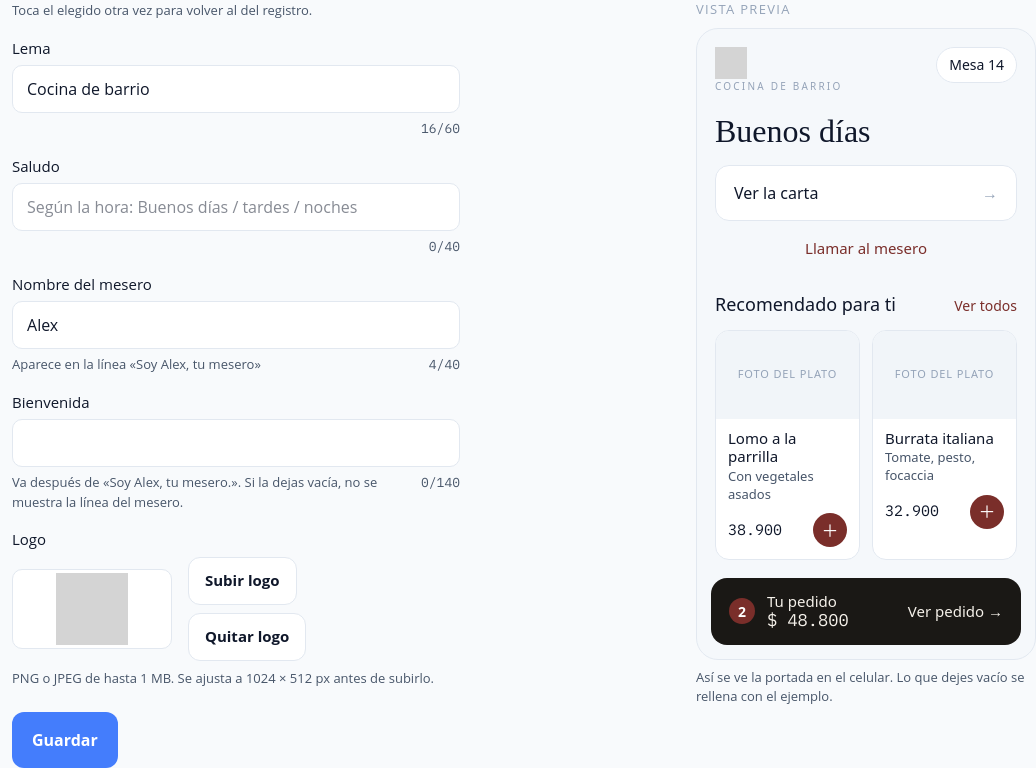
Test case: shows the real save error from el servidor and a plain message for access errors
(page scrolled)
Click the button "Guardar".
click(65, 740)  # box [12, 712, 118, 767]
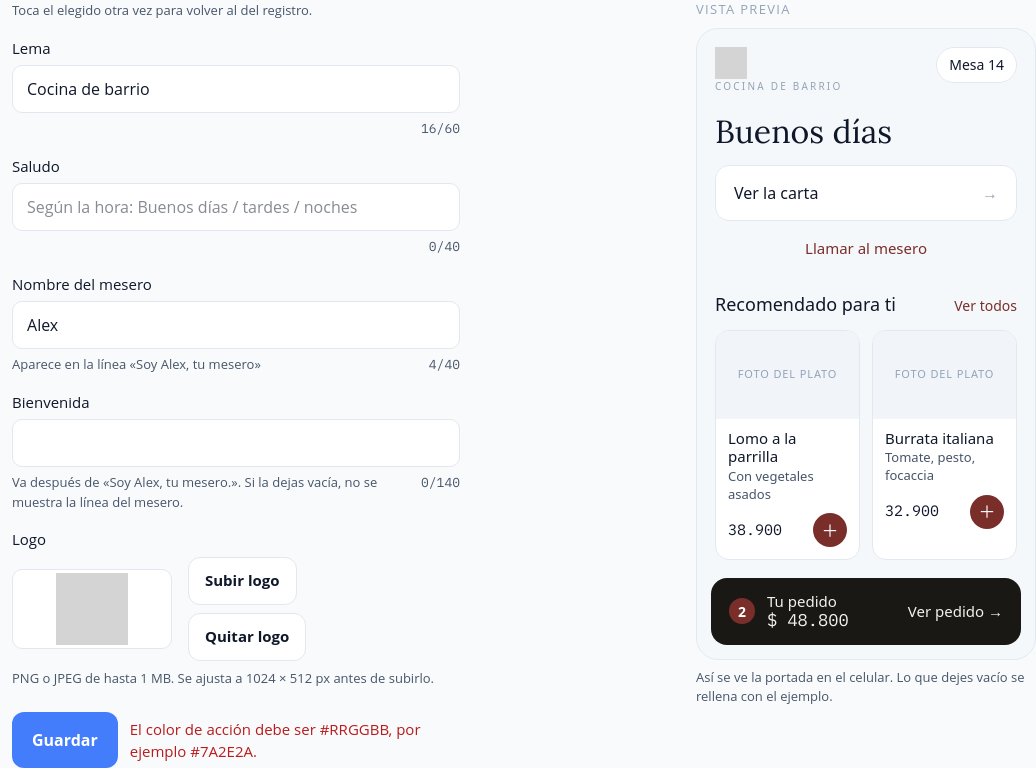
Result: the message reads "El color de acción debe ser #RRGGBB, por ejemplo #7A2E2A." at [130, 718, 421, 761]
Click the button "Guardar".
click(65, 740)  # box [12, 712, 118, 767]
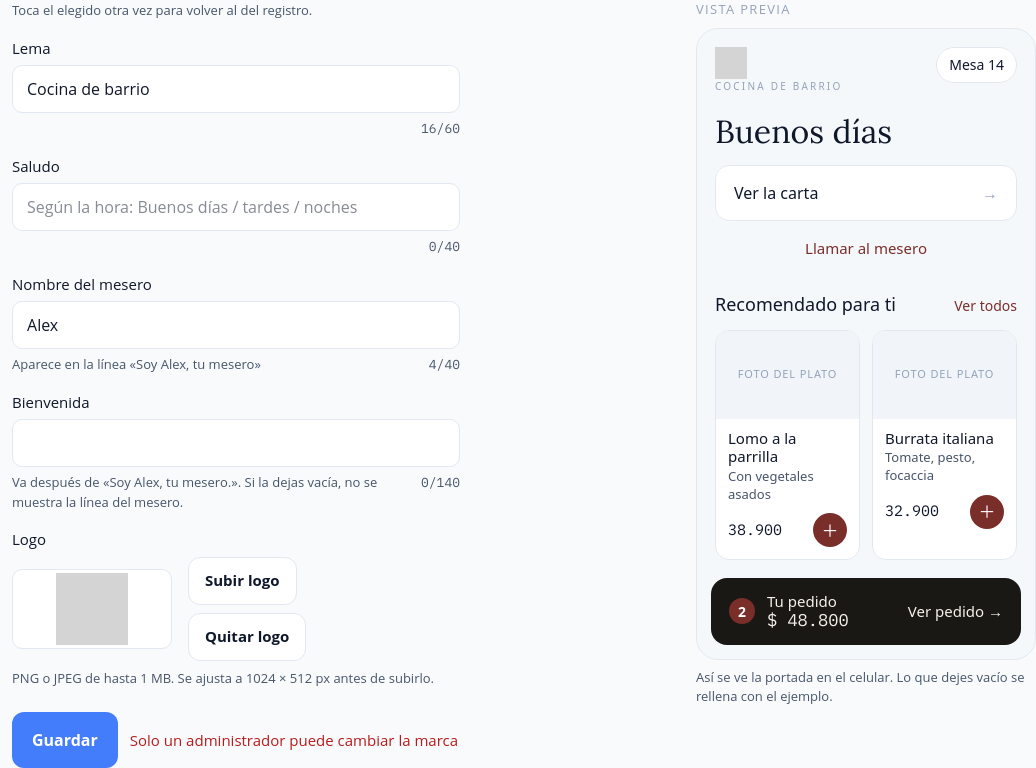
Click the button "Guardar".
click(65, 740)  # box [12, 712, 118, 767]
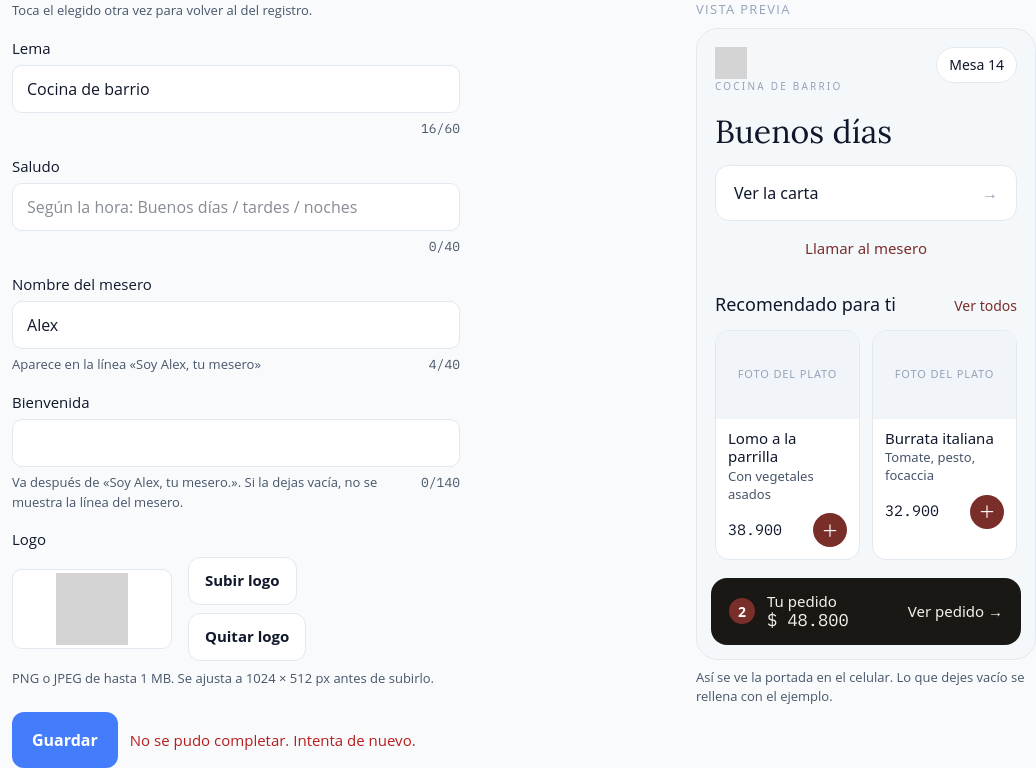
Result: the text "No se pudo completar. Intenta de nuevo." is shown at [130, 729, 416, 751]
